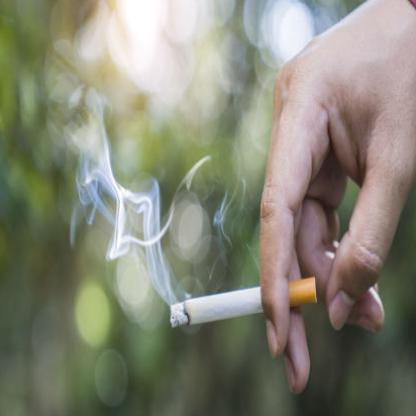cigarette: (168, 275, 318, 332)
smoke: (78, 138, 176, 302), (214, 188, 236, 260)
